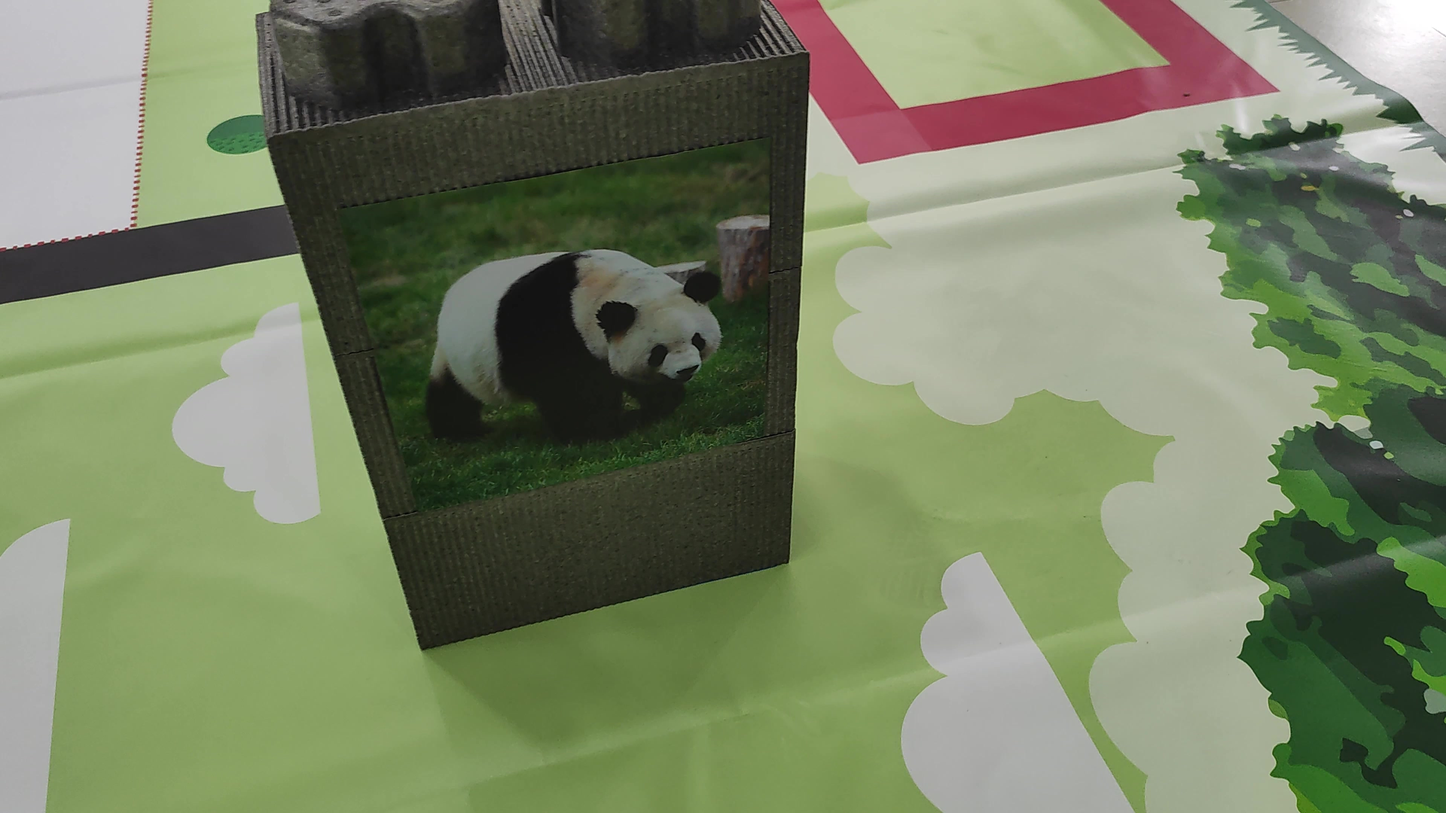panda: (387, 211, 729, 469)
